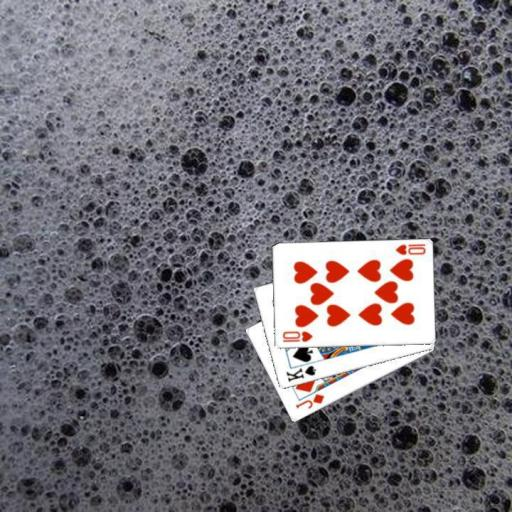card-corner: (283, 363, 317, 384), (292, 391, 326, 410), (280, 328, 314, 344), (392, 241, 426, 257)
